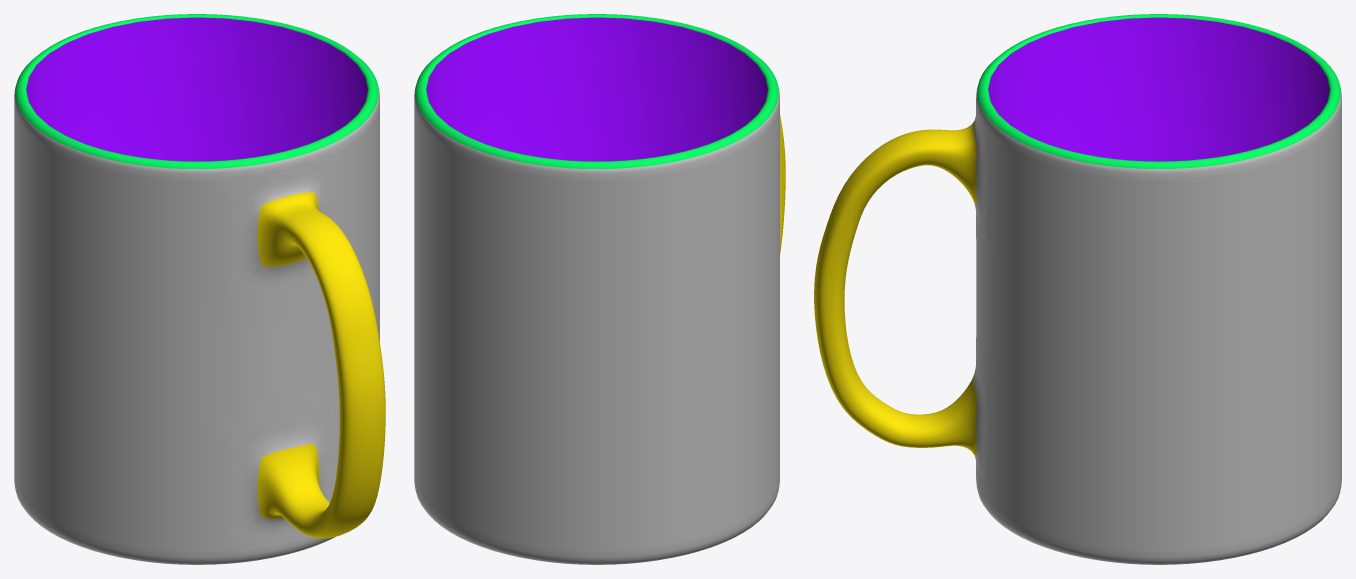
Rendered from mug.gltf.
3 renders of one model, left to right at view 1: azimuth 30°, elevation 25°; view 2: azimuth 150°, elevation 25°; view 3: azimuth 270°, elevation 25°, orthographic.
Parts seen in each view (by area): view 1: Cylinder001; view 2: Cylinder001; view 3: Cylinder001.
Part boxes in pixels (<box>): Cylinder001: <box>14,14,385,564</box>; Cylinder001: <box>414,14,785,564</box>; Cylinder001: <box>814,14,1341,564</box>.
Size of the model in its own units: 2.02 by 2.46 by 2.92.
